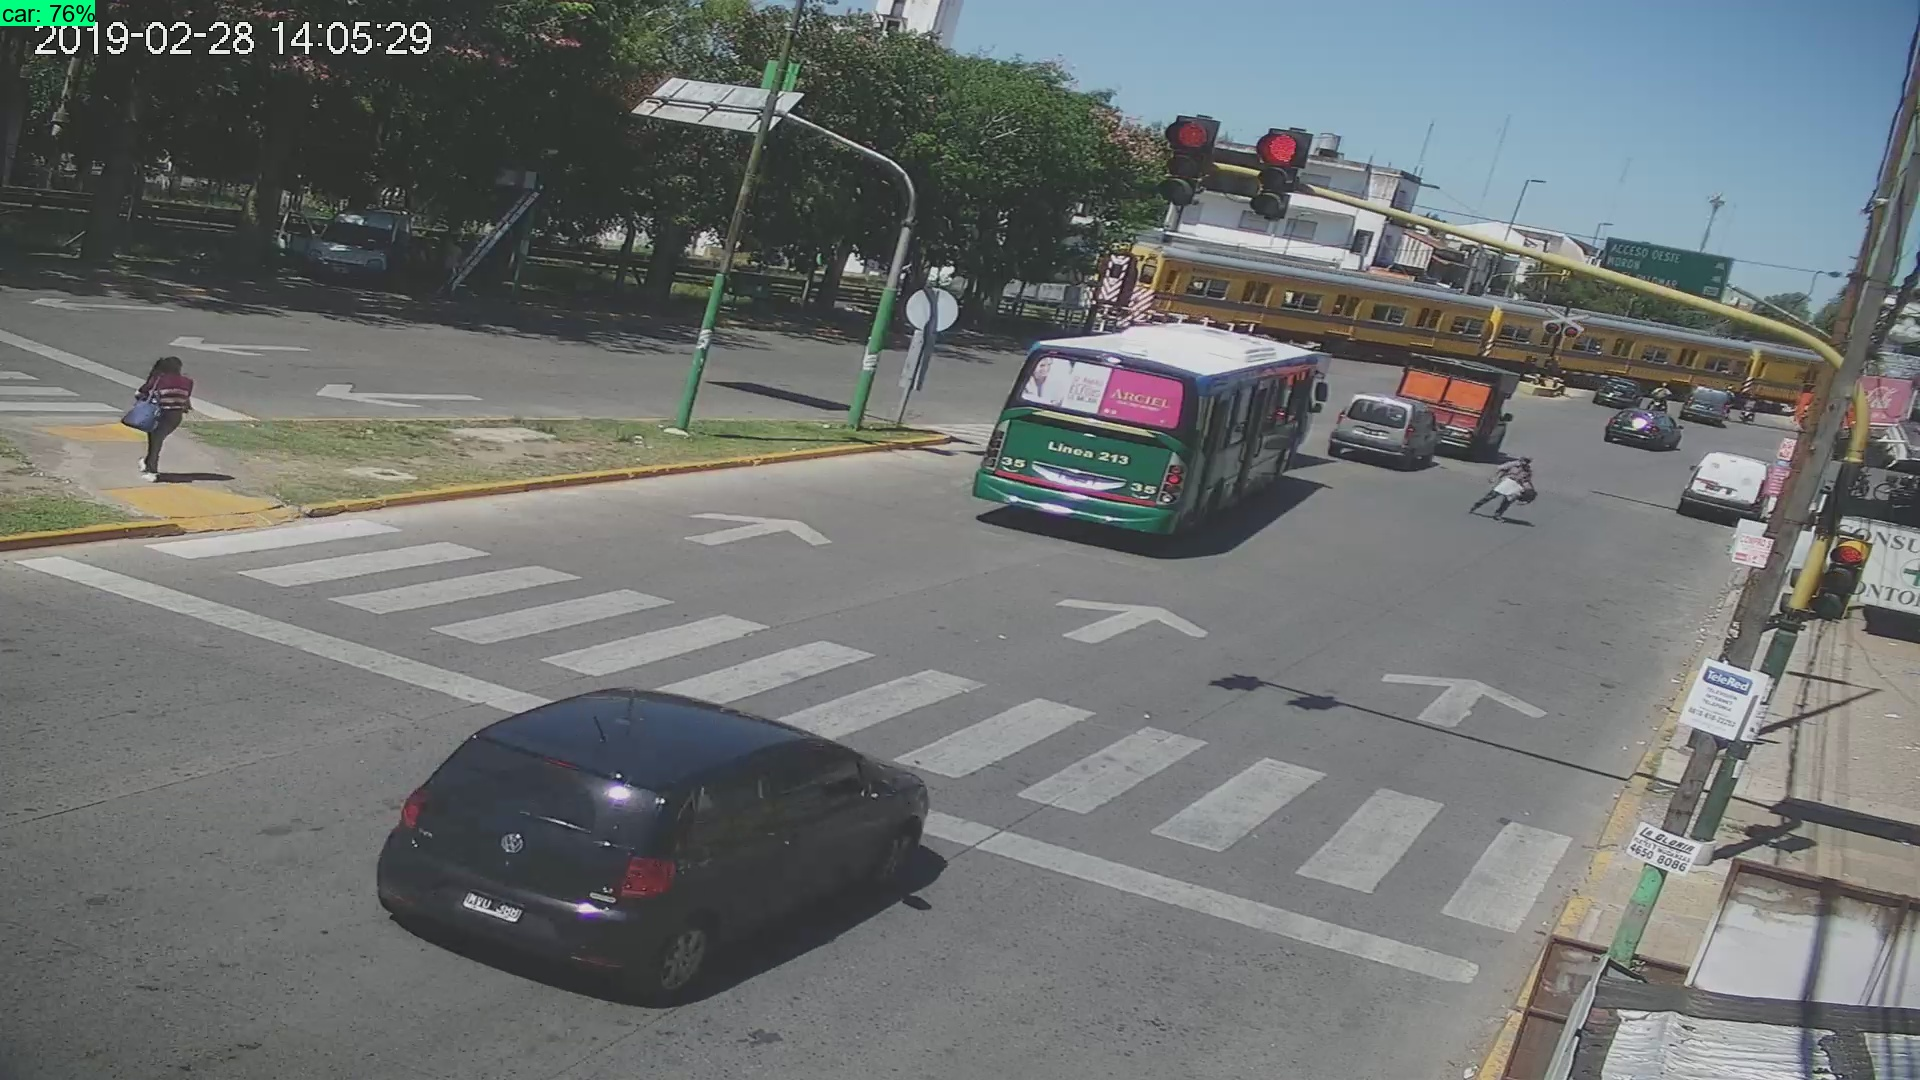bus: (961, 323, 1337, 574)
car: (367, 674, 947, 1015), (1663, 436, 1780, 539), (1329, 384, 1431, 480), (1596, 398, 1688, 462)
